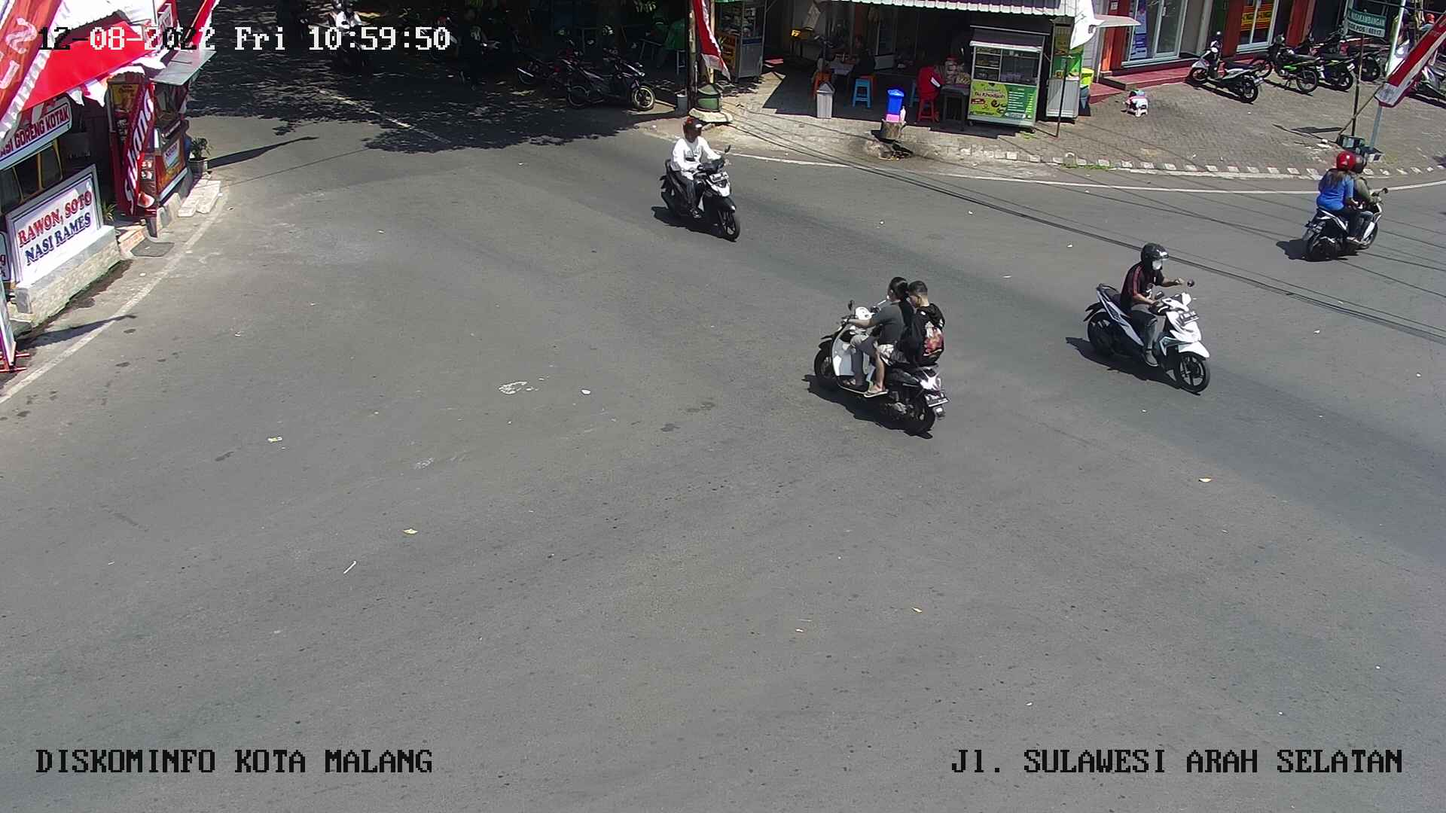with_helmet: (1081, 235, 1219, 401), (651, 115, 751, 244), (1287, 148, 1394, 266)
without_helmet: (804, 264, 956, 440)
